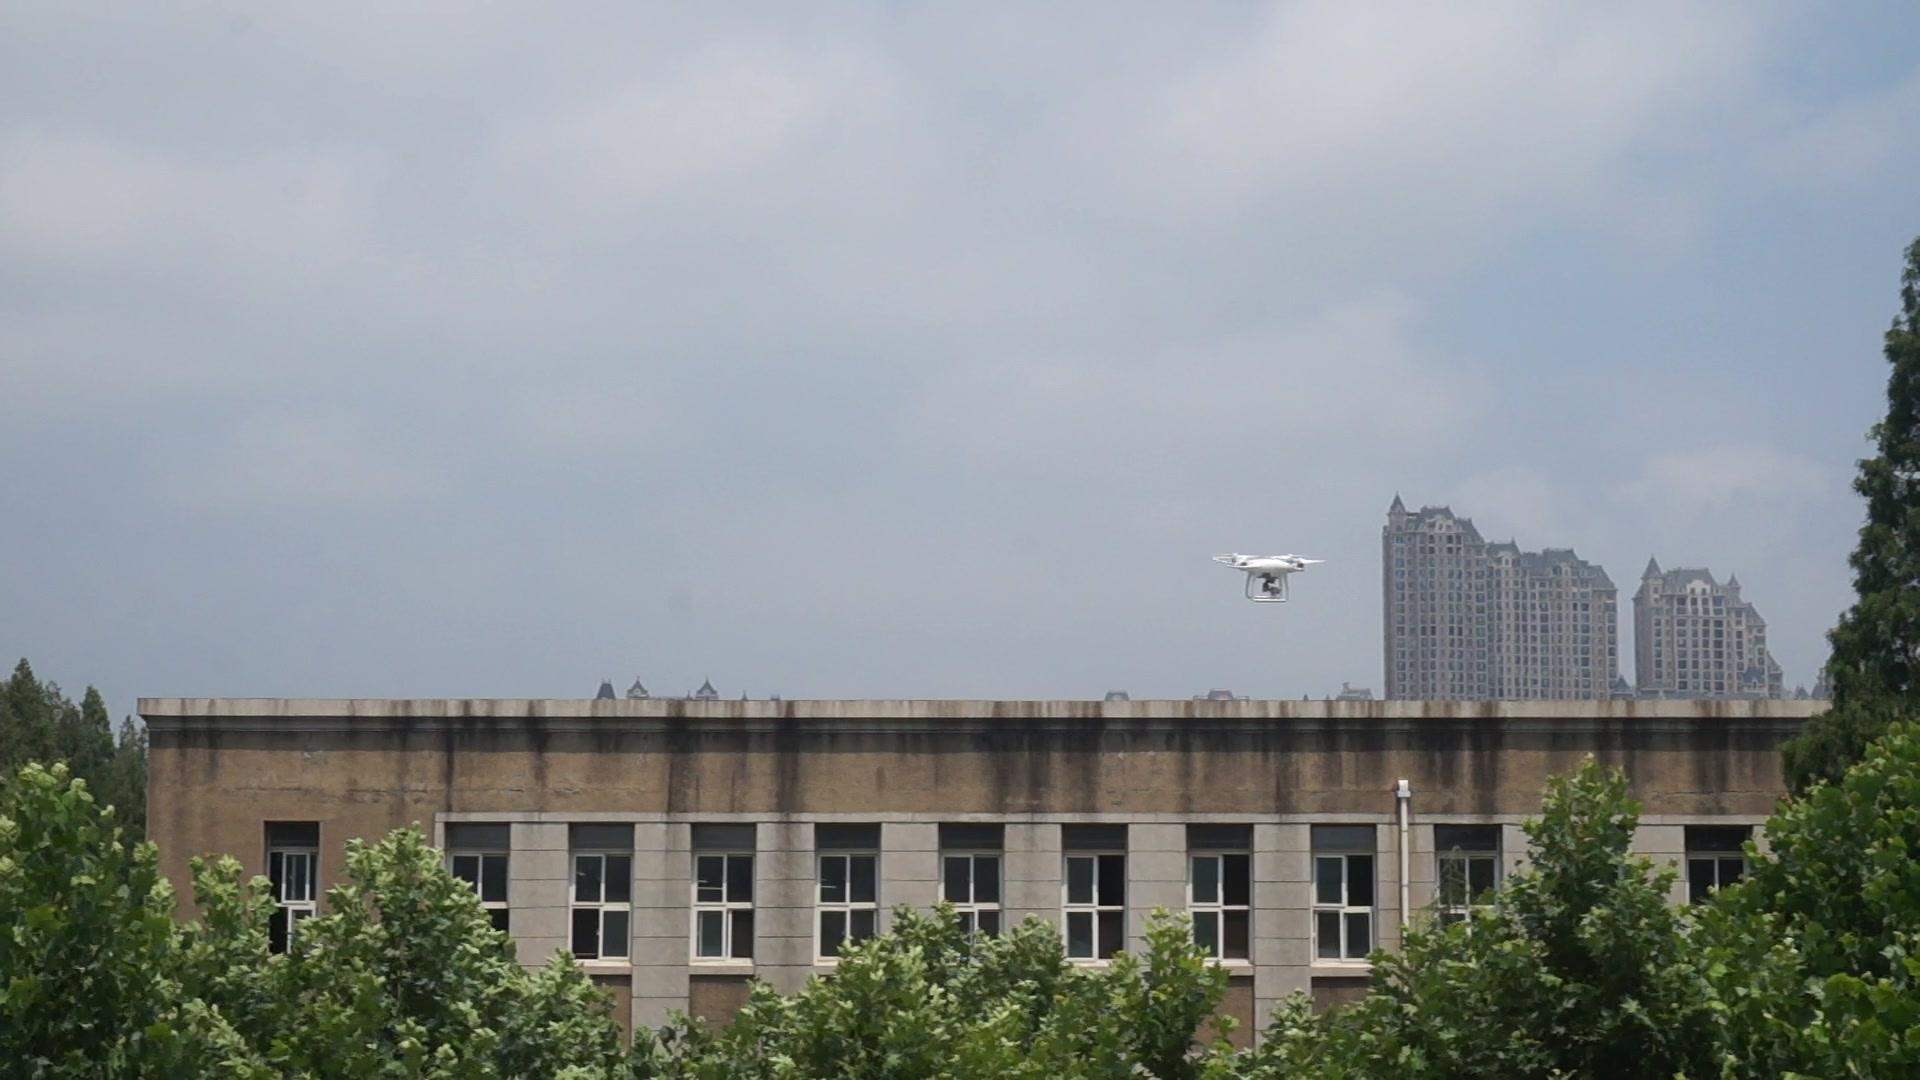UAV: (1212, 554, 1327, 604)
